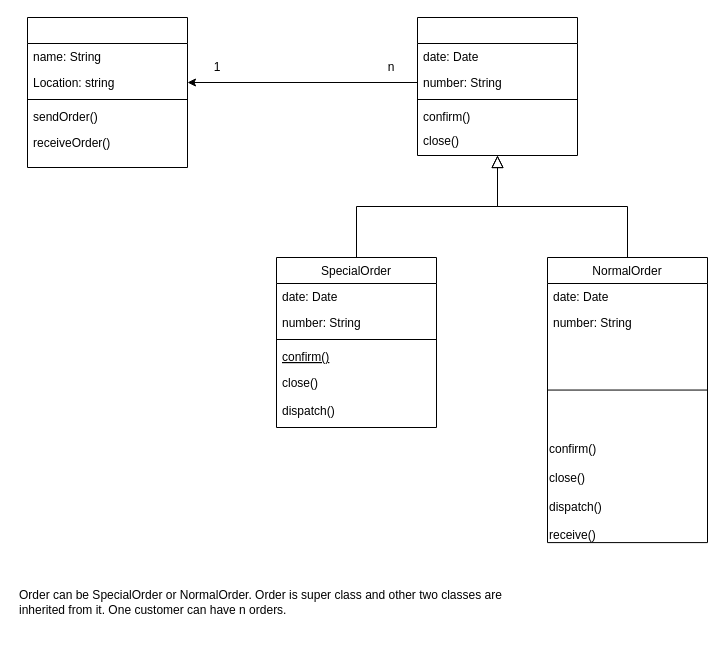
Image size: 725x655. Some labels were removed from this diagram. Each missing label, with the box of its shape:
Customer: (26, 16, 188, 168)
Order: (416, 16, 578, 156)
